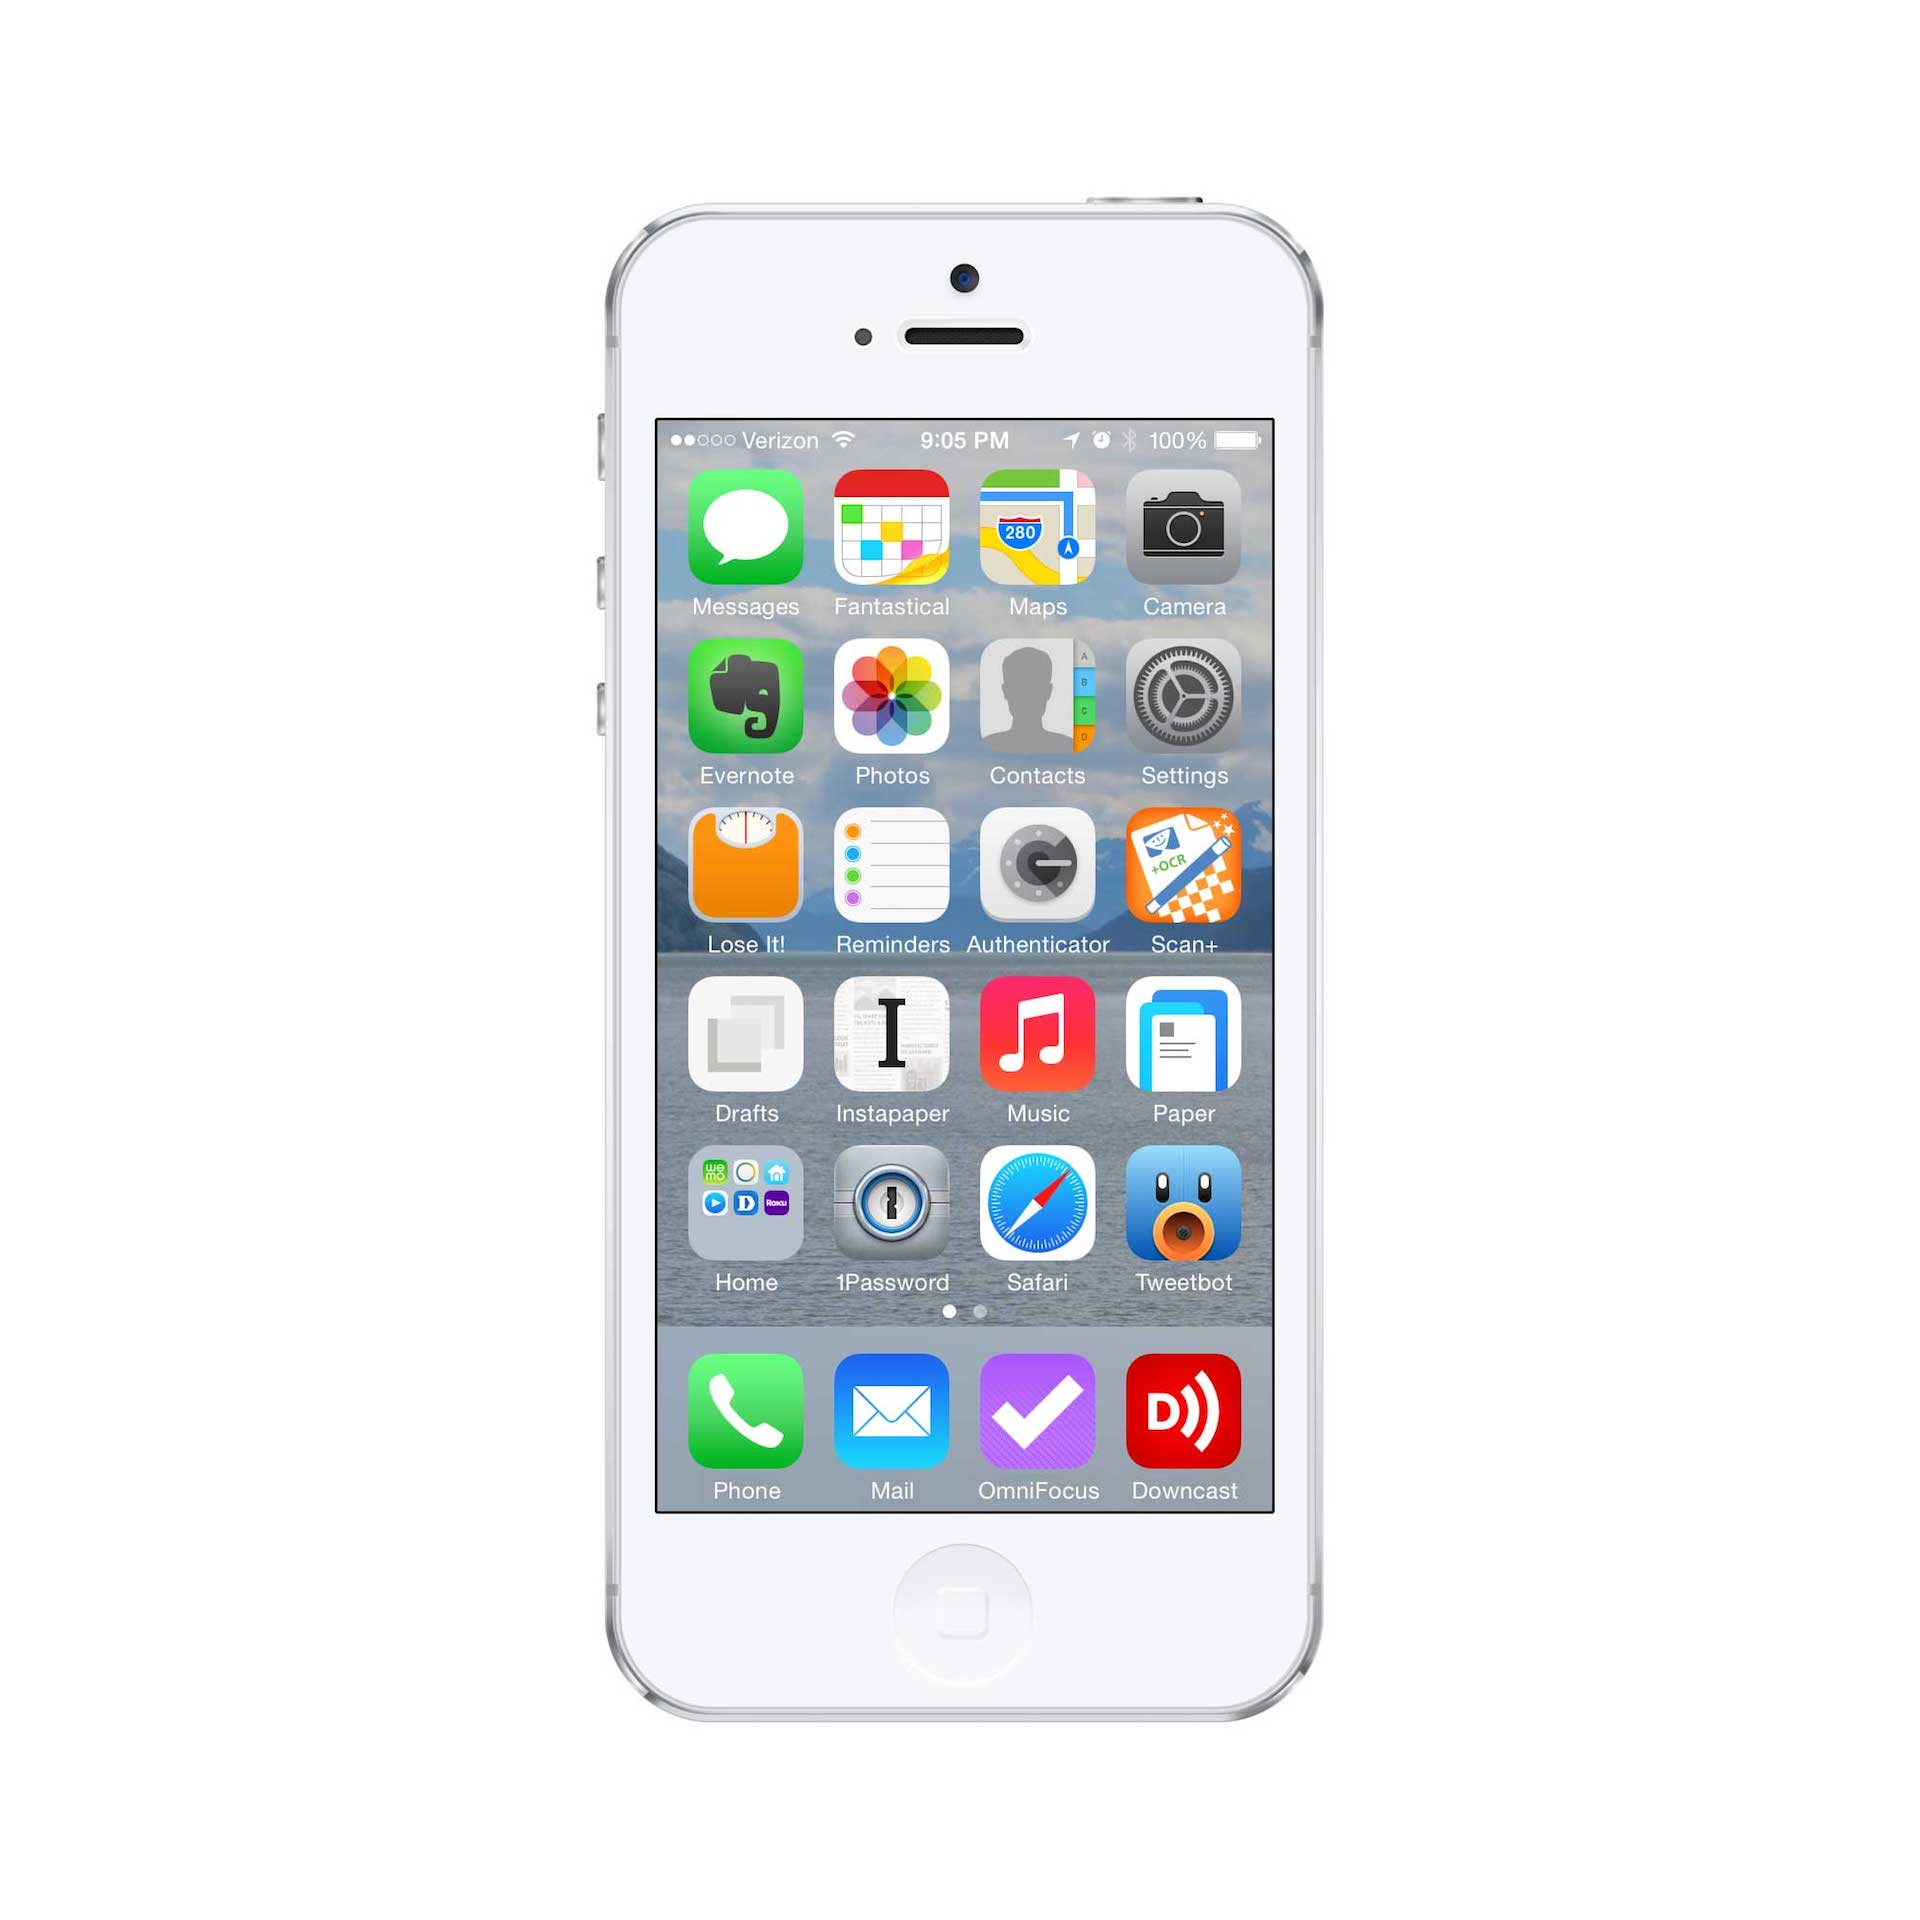smartphone: (596, 193, 1327, 1725)
